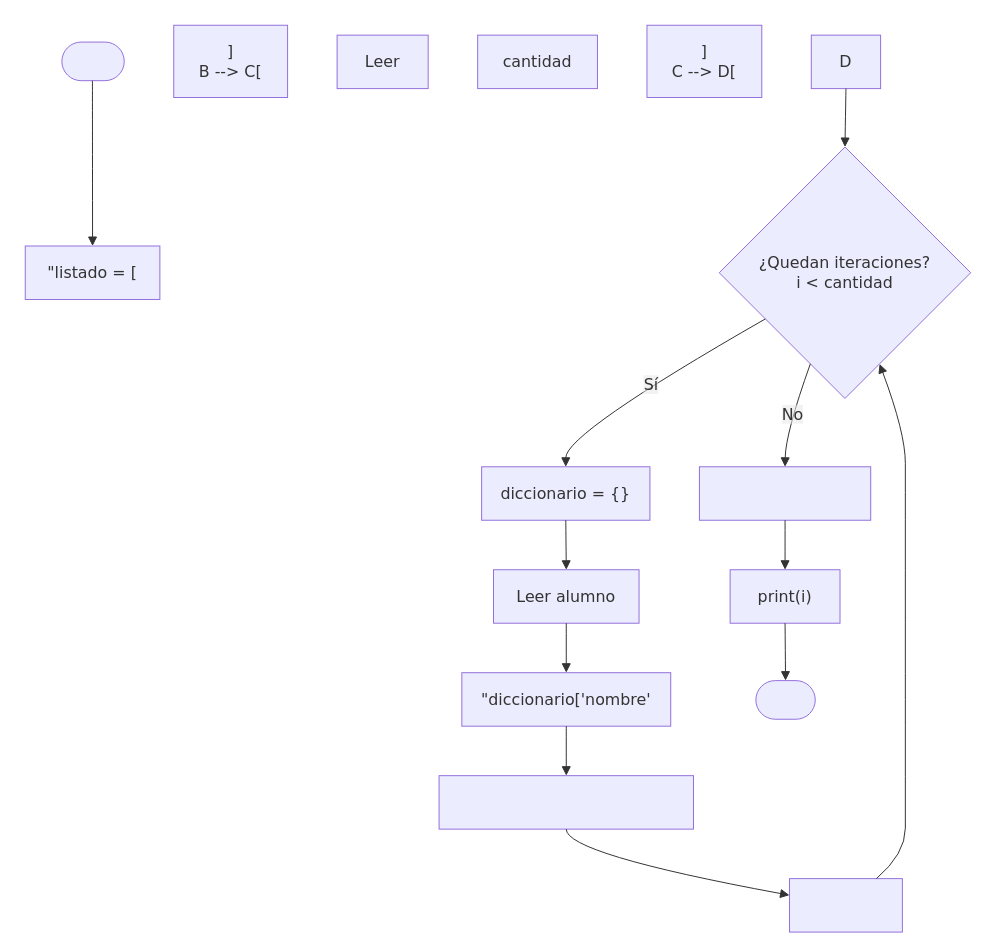
Image size: 988x949. Some labels were removed from this diagram. The box of each missing label's shape, as (x1, y1, x2, y2) in pixels:
Fin: (755, 680, 815, 719)
i = i + 1: (789, 878, 902, 932)
Inicio: (61, 41, 124, 81)
listado.append(diccionario): (438, 775, 693, 829)
Recorrer listado: (698, 466, 871, 520)
